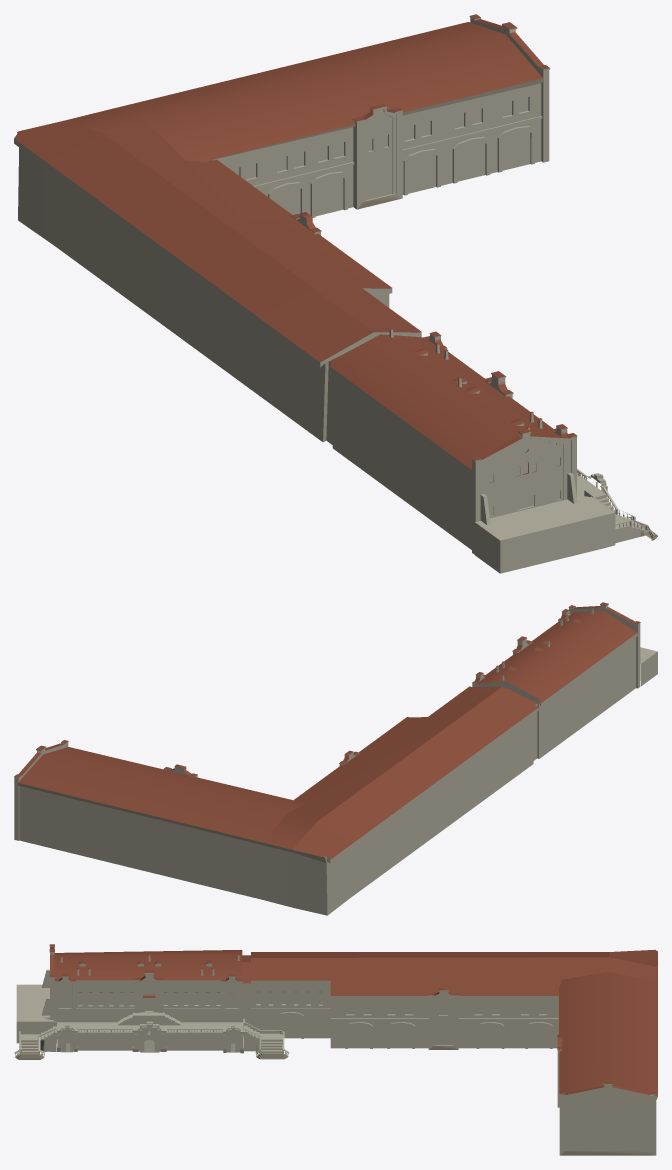
3 views of the same model, one above another, from view 1: azimuth 30°, elevation 25°; view 2: azimuth 150°, elevation 25°; view 3: azimuth 270°, elevation 25° (orthographic). The views are drawn at different scales.
Visible parts, largest first — view 1: polySurface17:PIV; view 2: polySurface17:PIV; view 3: polySurface17:PIV.
Boxes of the visible parts, box(x1,y1,x2,y2) form: polySurface17:PIV: box(14, 14, 657, 573); polySurface17:PIV: box(14, 602, 657, 915); polySurface17:PIV: box(14, 944, 657, 1155).
Bounding box in the file's own units: 84.91 × 19.82 × 155.
